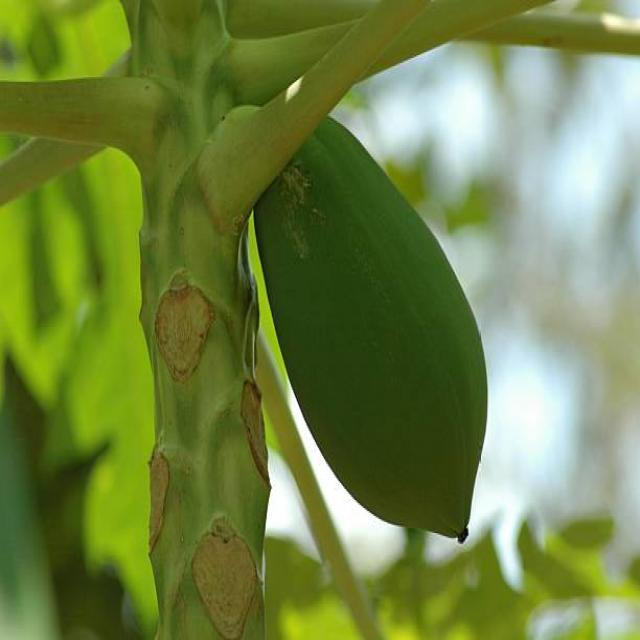Pepaya unrippen: (229, 104, 495, 555)
